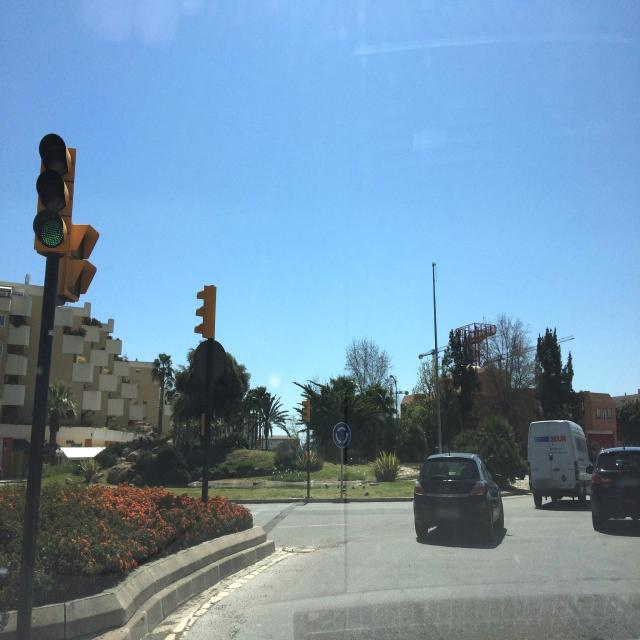car: (413, 452, 504, 542), (527, 418, 593, 508), (590, 445, 640, 531)
